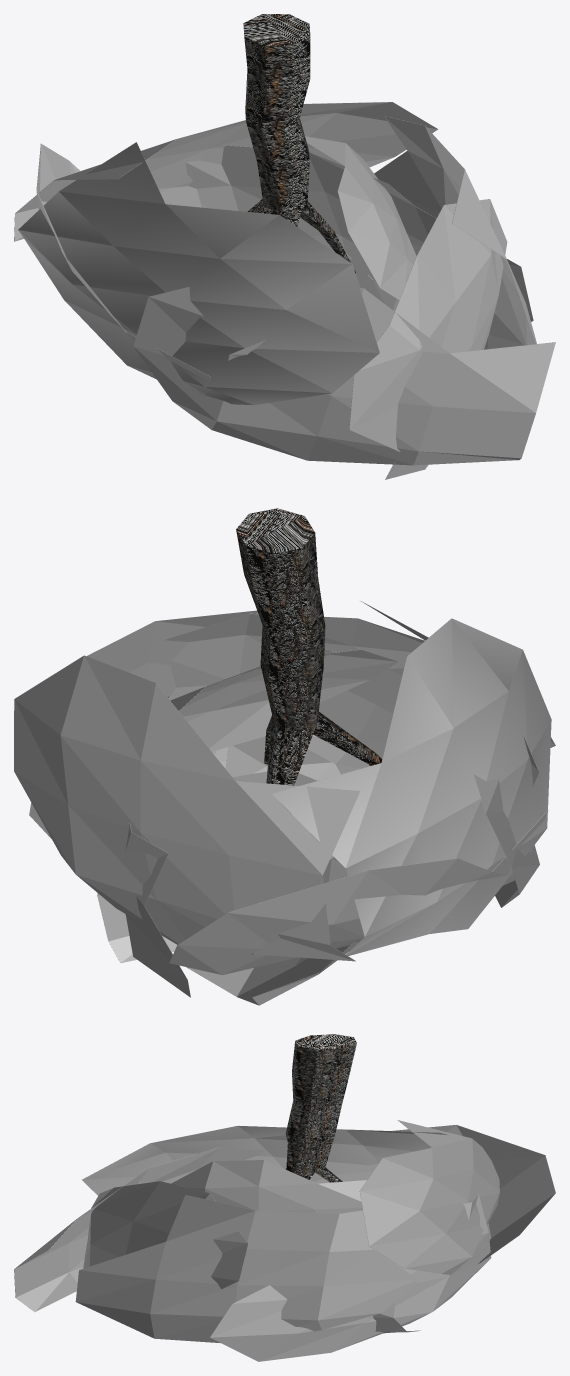
Rendered from arbol-azulClaro.fbx.
3 views of the same model, one above another, from view 1: azimuth 30°, elevation 25°; view 2: azimuth 150°, elevation 25°; view 3: azimuth 270°, elevation 25° (orthographic). The views are drawn at different scales.
Parts seen in each view (by area): view 1: azulClaro001; view 2: azulClaro001; view 3: azulClaro001.
Part boxes in pixels (x1,y1,x2,y2): azulClaro001: (14,14,555,479); azulClaro001: (14,508,555,1005); azulClaro001: (14,1034,555,1361).
Size of the model in its own units: 37.98 by 60.41 by 35.53.
